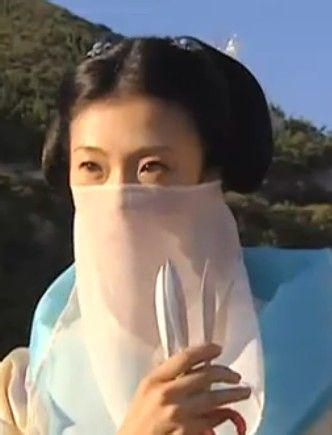OK: (67, 138, 184, 255)
